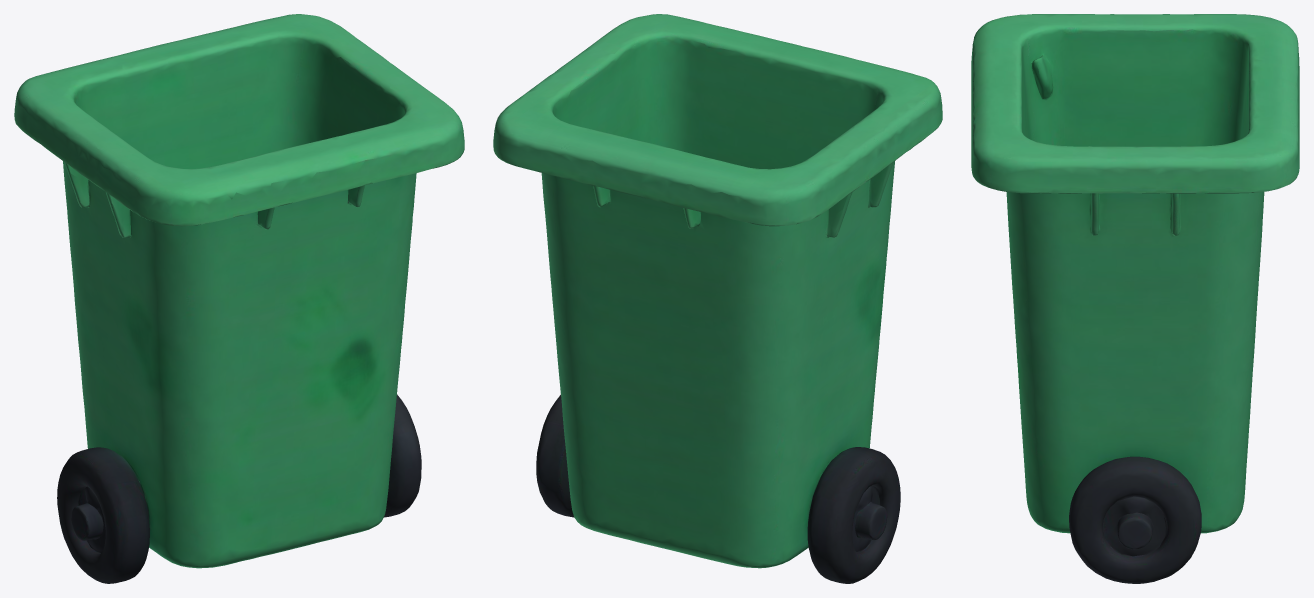
The model's file is bin.glb.
3 renders of one model, left to right at view 1: azimuth 30°, elevation 25°; view 2: azimuth 150°, elevation 25°; view 3: azimuth 270°, elevation 25°, orthographic. The views are drawn at different scales.
Visible parts, largest first — view 1: Mesh; view 2: Mesh; view 3: Mesh.
Boxes of the visible parts, box(x1,y1,x2,y2) form: Mesh: box(14, 14, 464, 583); Mesh: box(493, 14, 942, 583); Mesh: box(971, 14, 1299, 583).
Bounding box in the file's own units: 1.45 × 1.9 × 1.31.
Materials: 1 (1 with a texture image).
